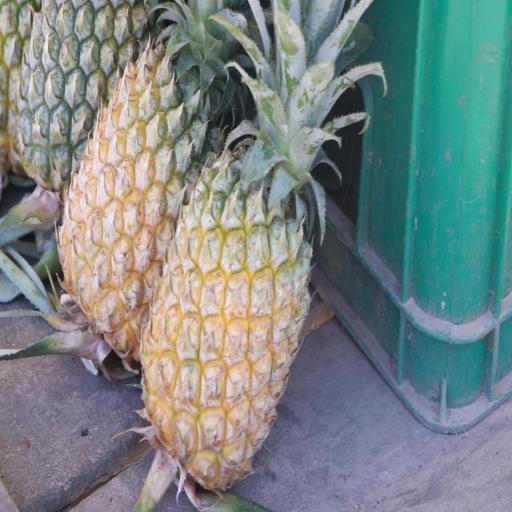Pineapple - v8 v1: (139, 93, 320, 500), (56, 0, 230, 371)
